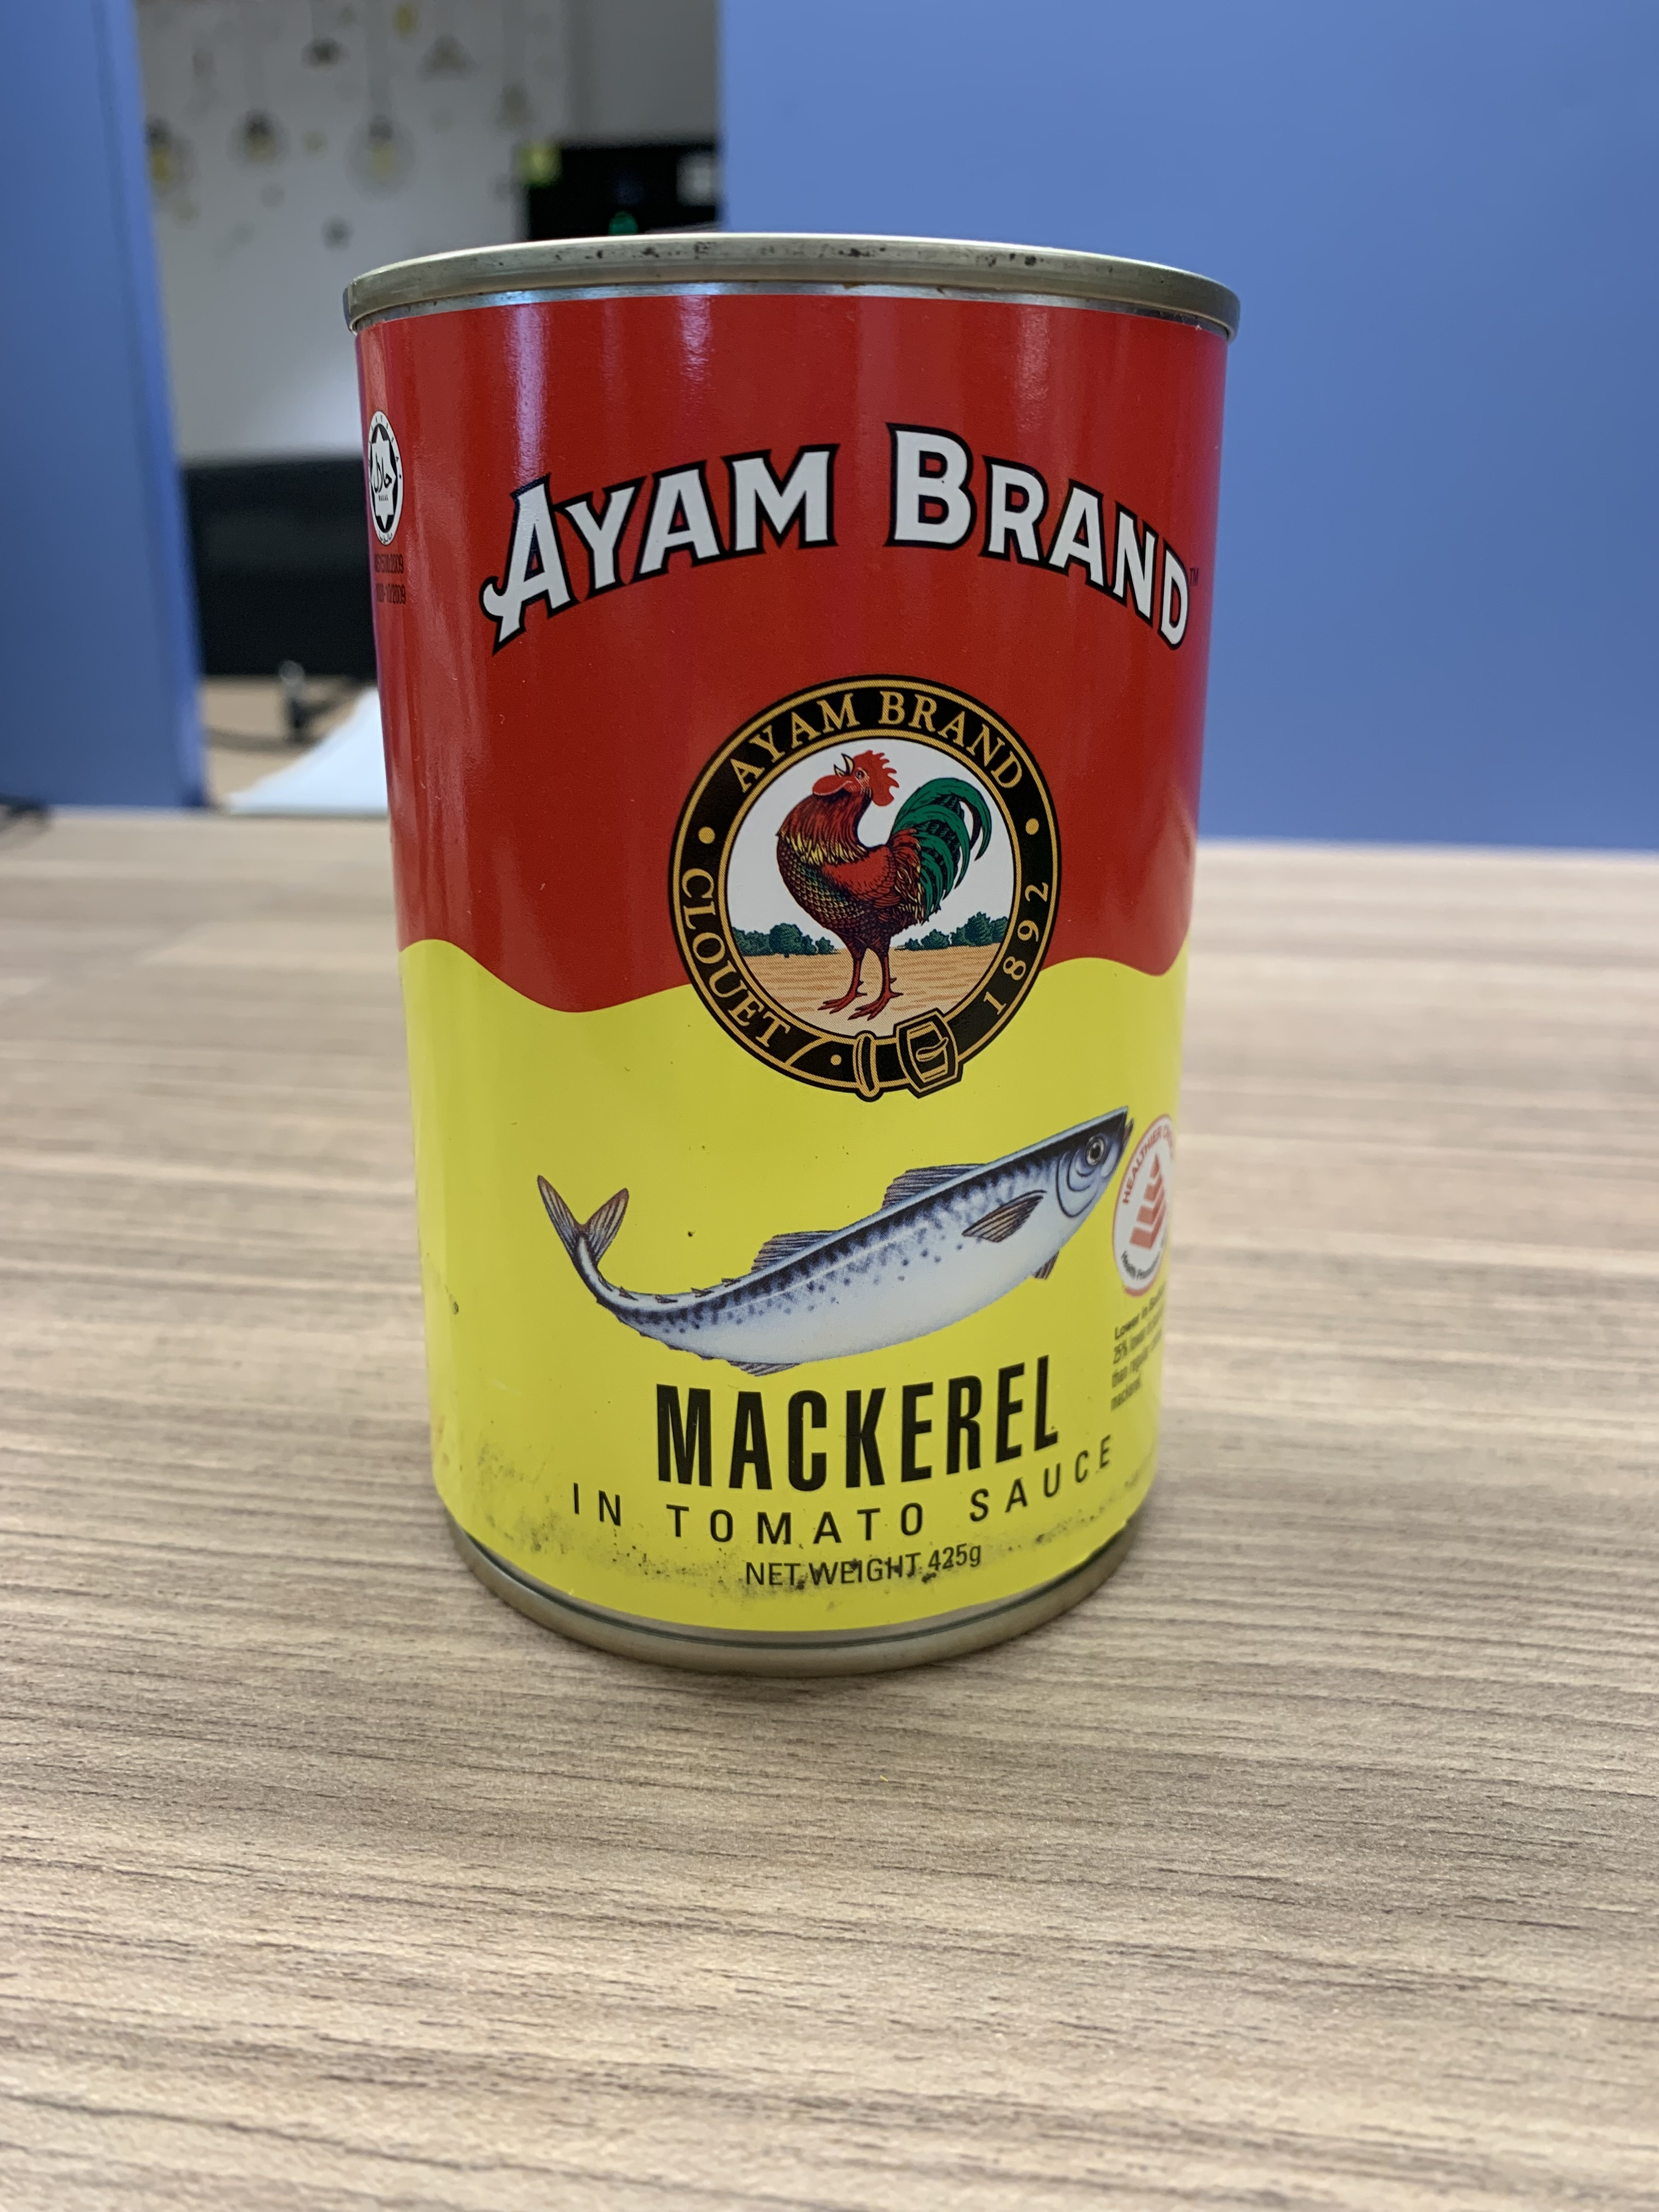sardines_400g-499g: (389, 284, 1157, 1608)
